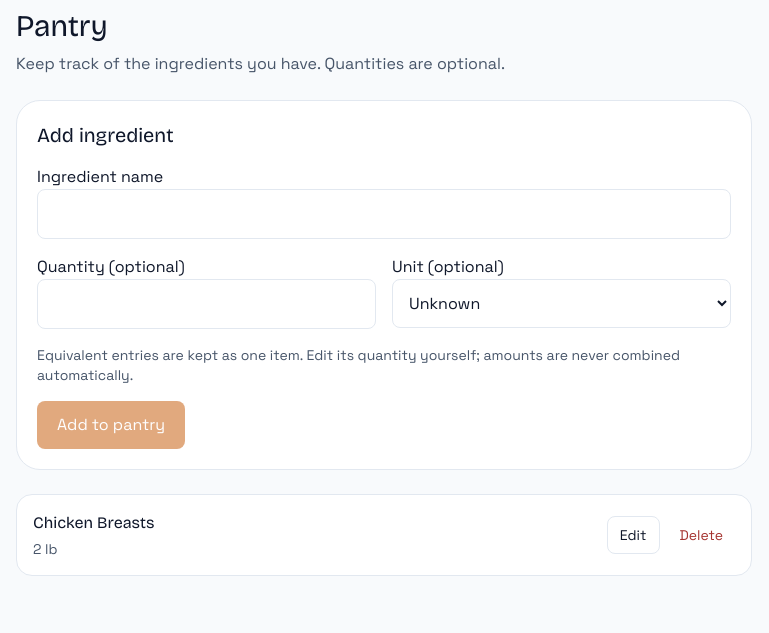
delete removes the item only after success
Click the button with aria-label "Delete Chicken Breasts": (701,535) [668,516,735,554]
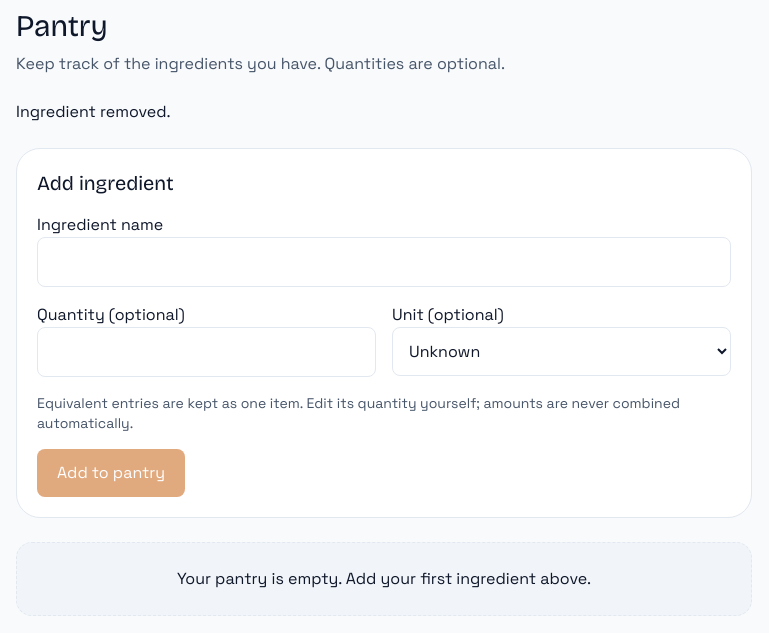
Now the text "Your pantry is empty. Add your first ingredient above." is shown, box [16,542,752,616]
